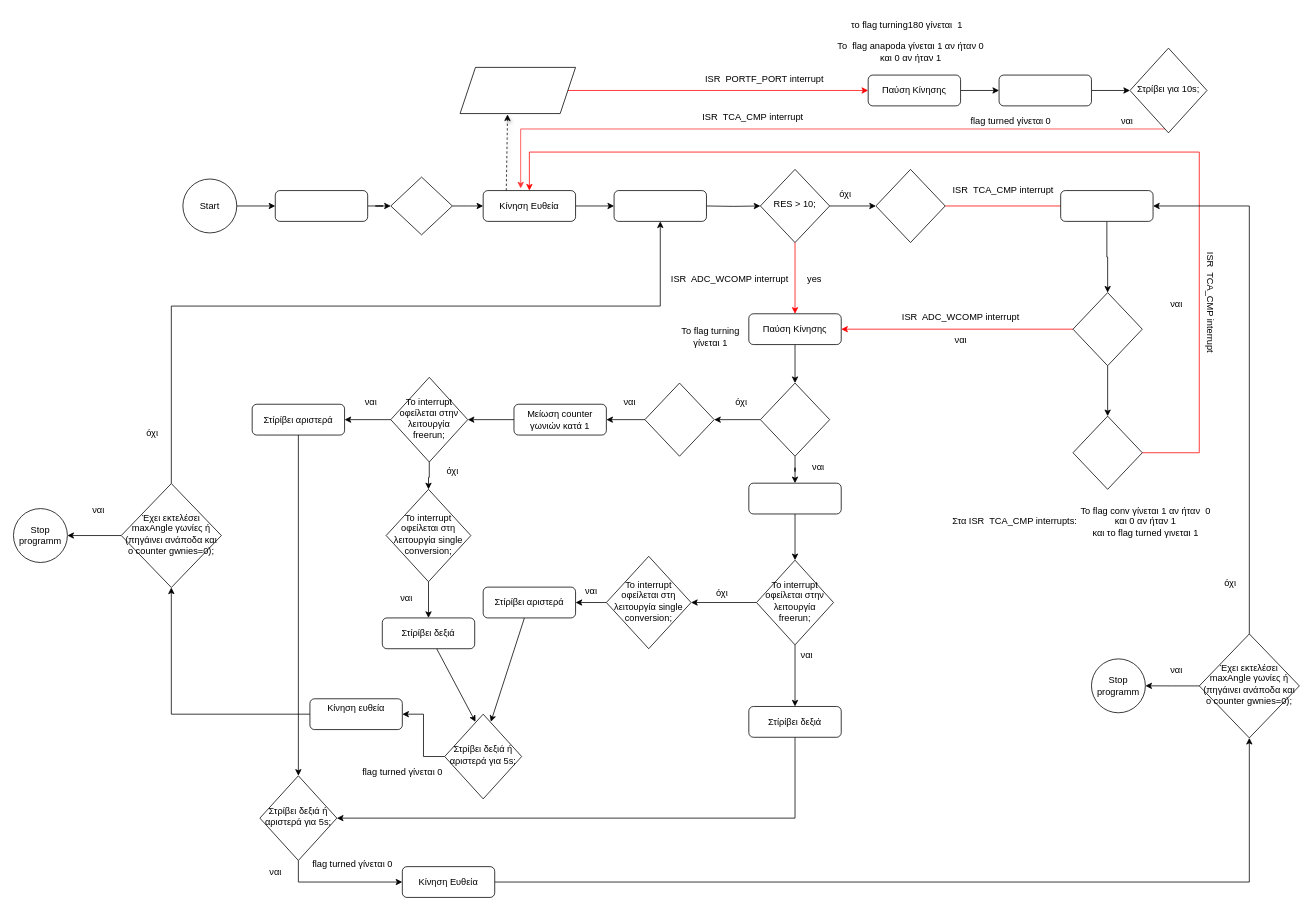
Some shapes in this 1313 by 911 pixel diagram are drawn without their labels. The centre of each missing label's shape, as x and y in pixels:
FreeRunningMode ADC: the point at 659,205
RES < 10;: the point at 1107,329
Single Conversion λειτουργία: the point at 1106,205
while(1): the point at 421,205
έχει περάσει χρόνος 2s;: the point at 1107,452
έχει περάσει χρόνος 3s;: the point at 910,206
Αρχικοποίηση των LEDs, PIN5 του PortF και ADC: the point at 321,205
Αύξηση counter γωνιών κατά 1: the point at 794,498
Ενεργοποίηση PIN5 PΟRTF (πάτημα διακόπτη): the point at 517,90
Κινείται ανάποδα;: the point at 679,419
Κινείται ευθεία;: the point at 795,419
Στρίβει 180 μοίρες: the point at 1044,90
